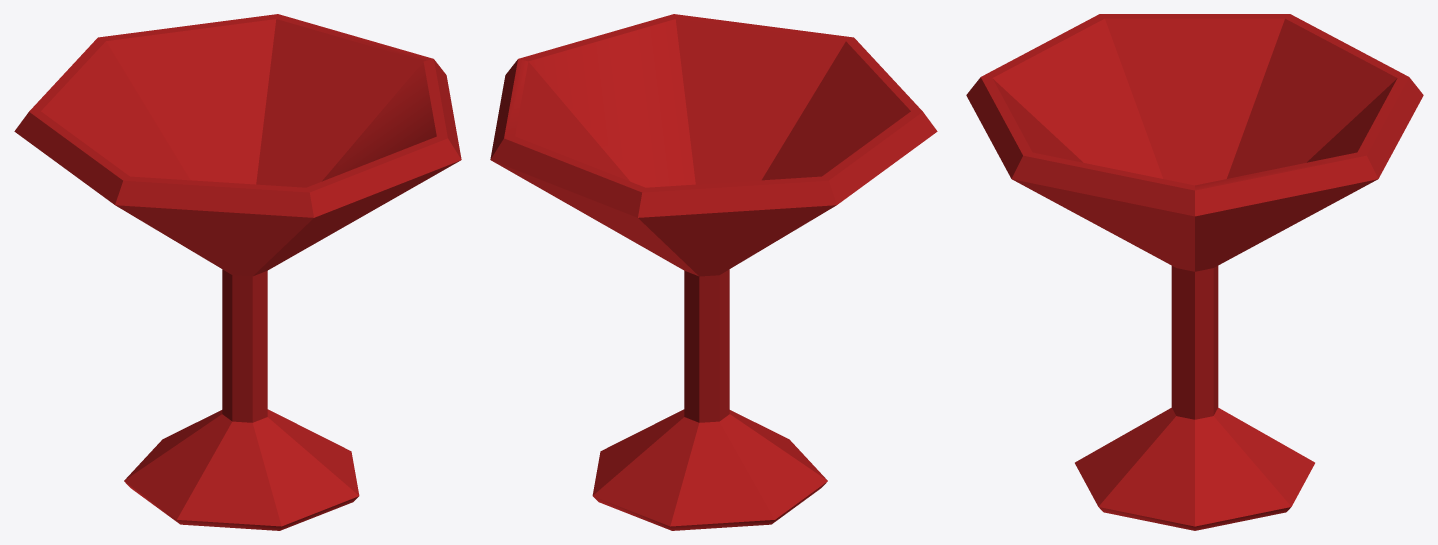
Rendered from obj_glass_1.FBX.
3 views of the same model, side by side, from view 1: azimuth 30°, elevation 25°; view 2: azimuth 150°, elevation 25°; view 3: azimuth 270°, elevation 25° (orthographic).
Parts seen in each view (by area): view 1: Object001; view 2: Object001; view 3: Object001.
Part boxes in pixels (box(x1,y1,x2,y2)): Object001: box(14, 14, 461, 530); Object001: box(490, 14, 937, 530); Object001: box(966, 14, 1423, 530).
Size of the model in its own units: 25.72 by 24.41 by 26.38.
